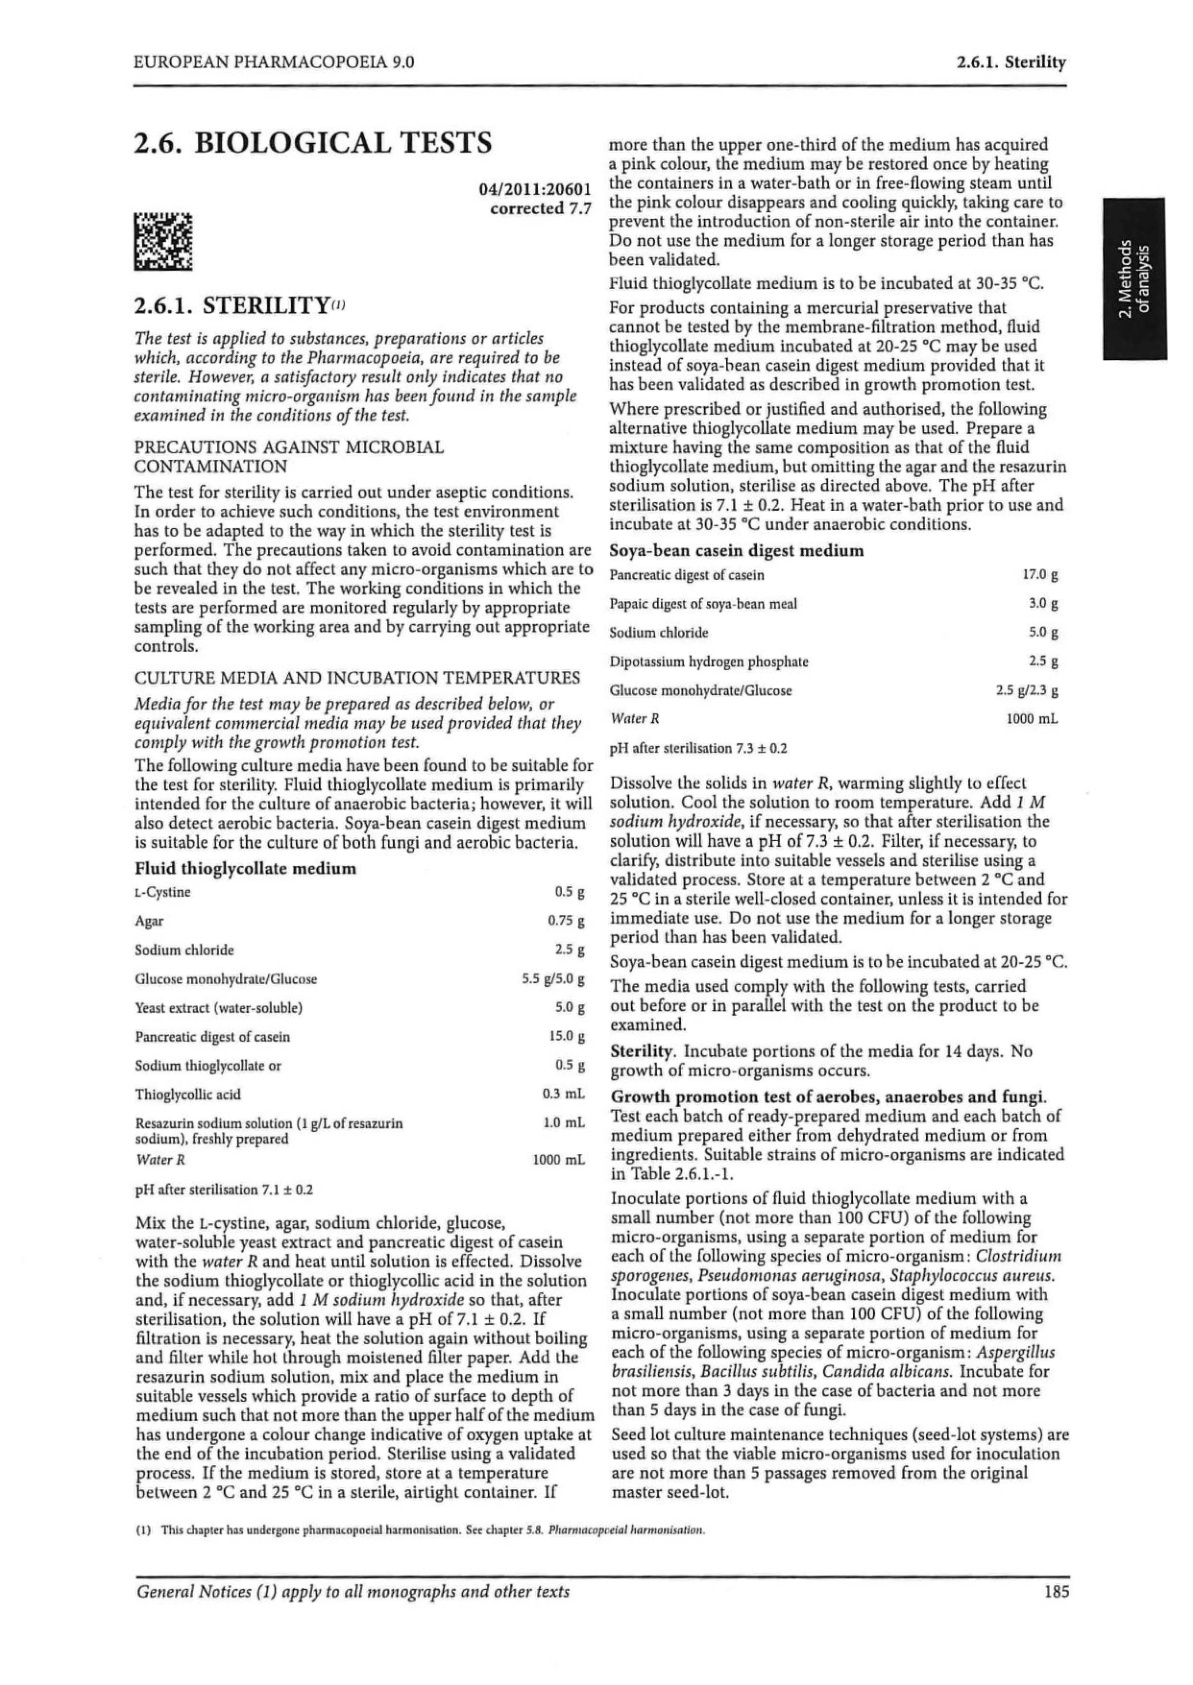nolines: (129, 881, 587, 1200), (604, 562, 1063, 759)
